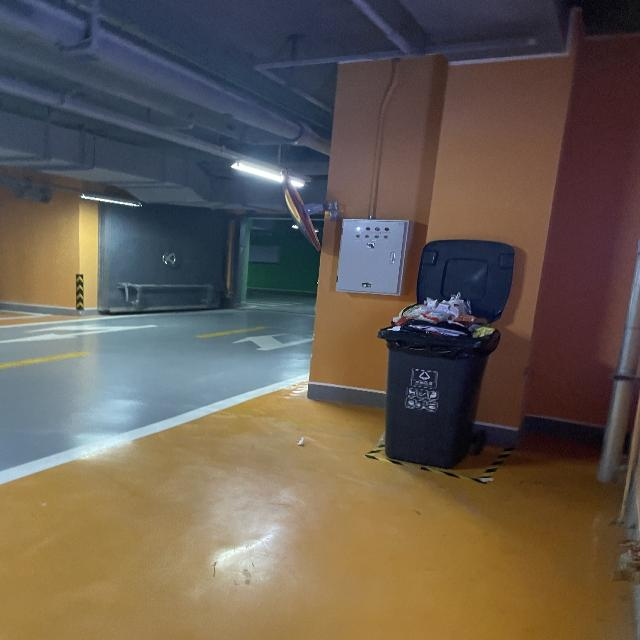overflow: (376, 291, 499, 468)
